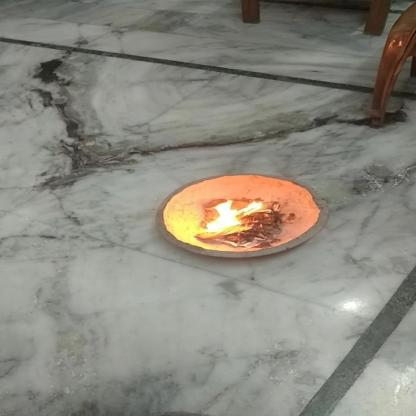fire: (201, 193, 269, 240)
